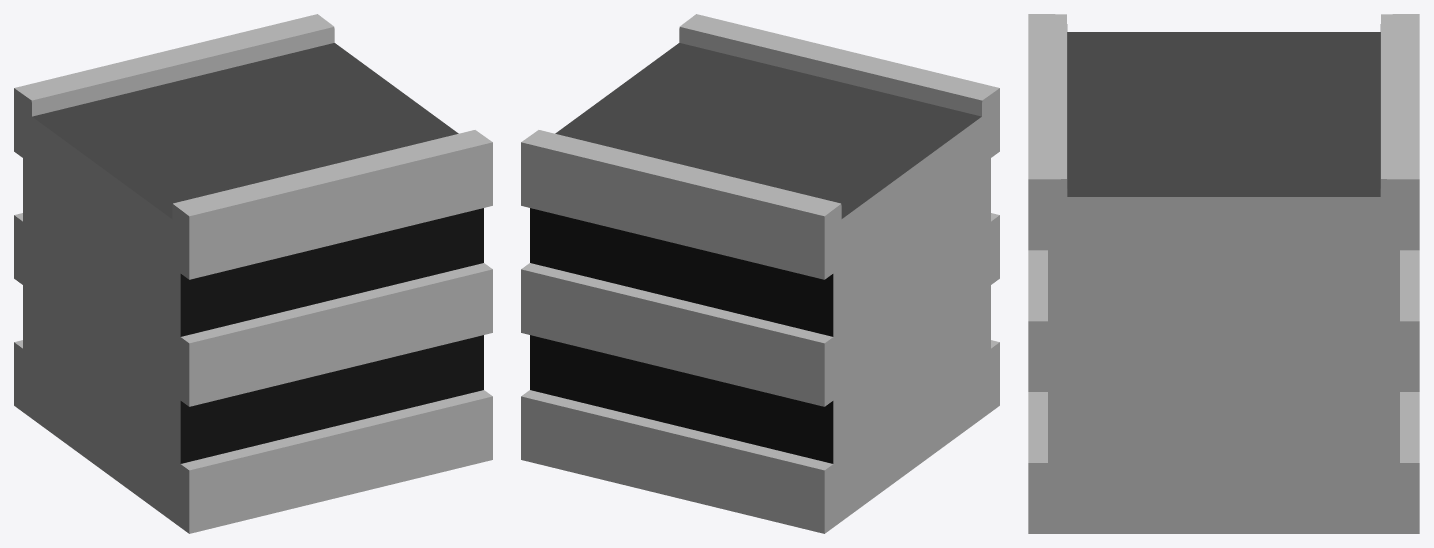
The model's file is Building-TwoSided.fbx.
The picture shows the model from 3 angles, left to right: view 1: azimuth 30°, elevation 25°; view 2: azimuth 150°, elevation 25°; view 3: azimuth 270°, elevation 25°; orthographic projection. The views are drawn at different scales.
Parts seen in each view (by area): view 1: BuildingTwoSided; view 2: BuildingTwoSided; view 3: BuildingTwoSided.
Boxes of the visible parts, x1,y1,x2,y2 form: BuildingTwoSided: (14,14,492,533); BuildingTwoSided: (521,14,999,533); BuildingTwoSided: (1028,14,1419,533).
Size of the model in its own units: 100 by 100 by 100.
